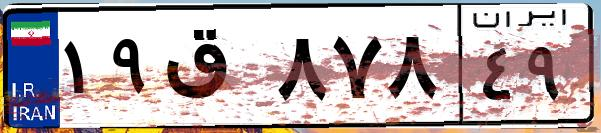1: (57, 26, 110, 100)
4: (475, 38, 525, 113)
7: (330, 28, 385, 110)
8: (270, 28, 330, 110), (385, 28, 445, 110)
9: (525, 38, 570, 115), (110, 28, 158, 98)
ق: (158, 20, 270, 120)
